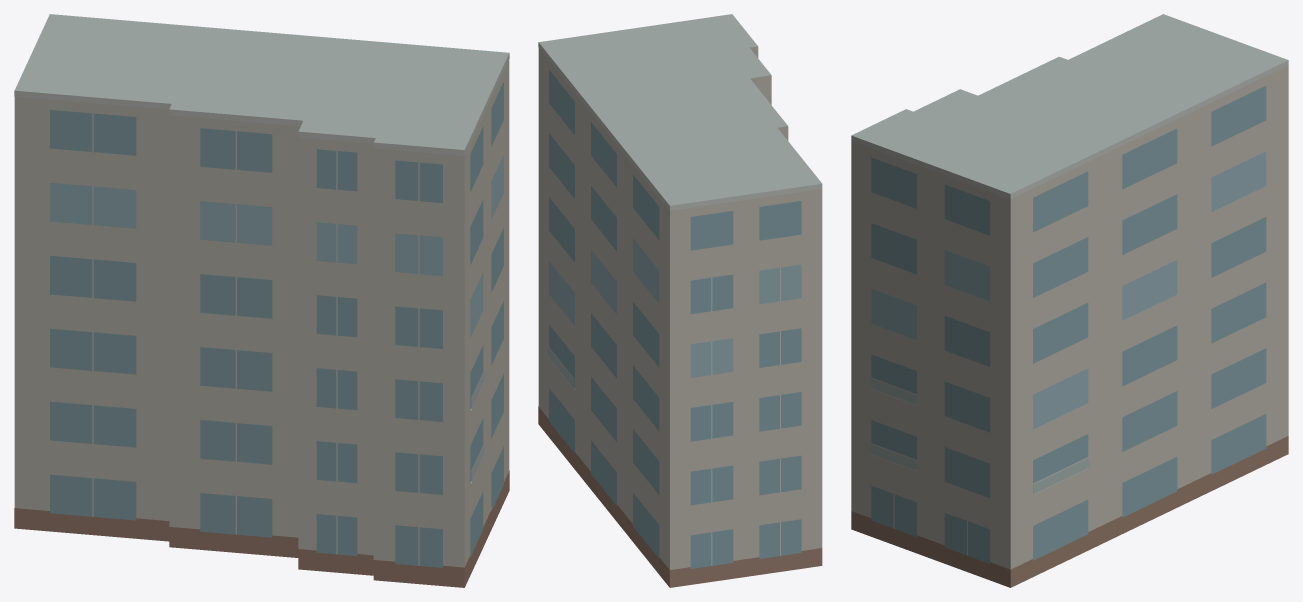
File: survey-upis-33040998.glb
3 renders of one model, left to right at view 1: azimuth 30°, elevation 25°; view 2: azimuth 150°, elevation 25°; view 3: azimuth 270°, elevation 25°, orthographic. The views are drawn at different scales.
Visible parts, largest first — view 1: survey-upis-33040998.tmp; view 2: survey-upis-33040998.tmp; view 3: survey-upis-33040998.tmp.
Boxes of the visible parts, <box> form: survey-upis-33040998.tmp: <box>14,14,509,587</box>; survey-upis-33040998.tmp: <box>538,14,822,587</box>; survey-upis-33040998.tmp: <box>851,14,1288,587</box>.
Size of the model in its own units: 17.95 by 18.3 by 18.43.
